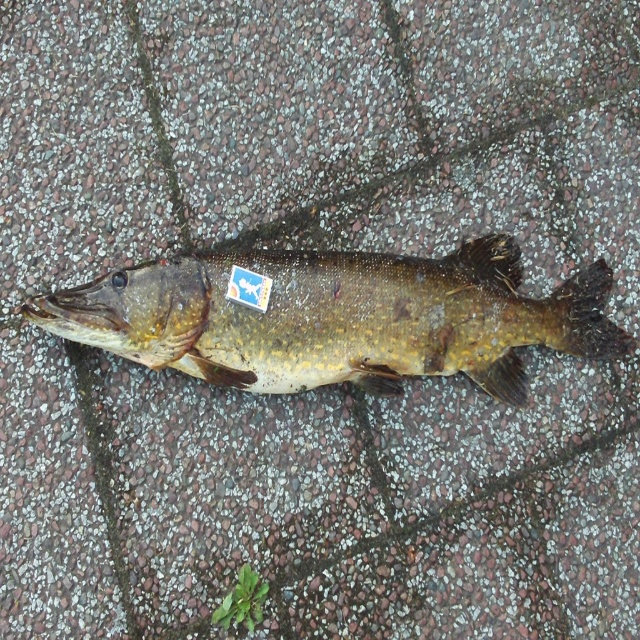Fish: (22, 234, 636, 411)
